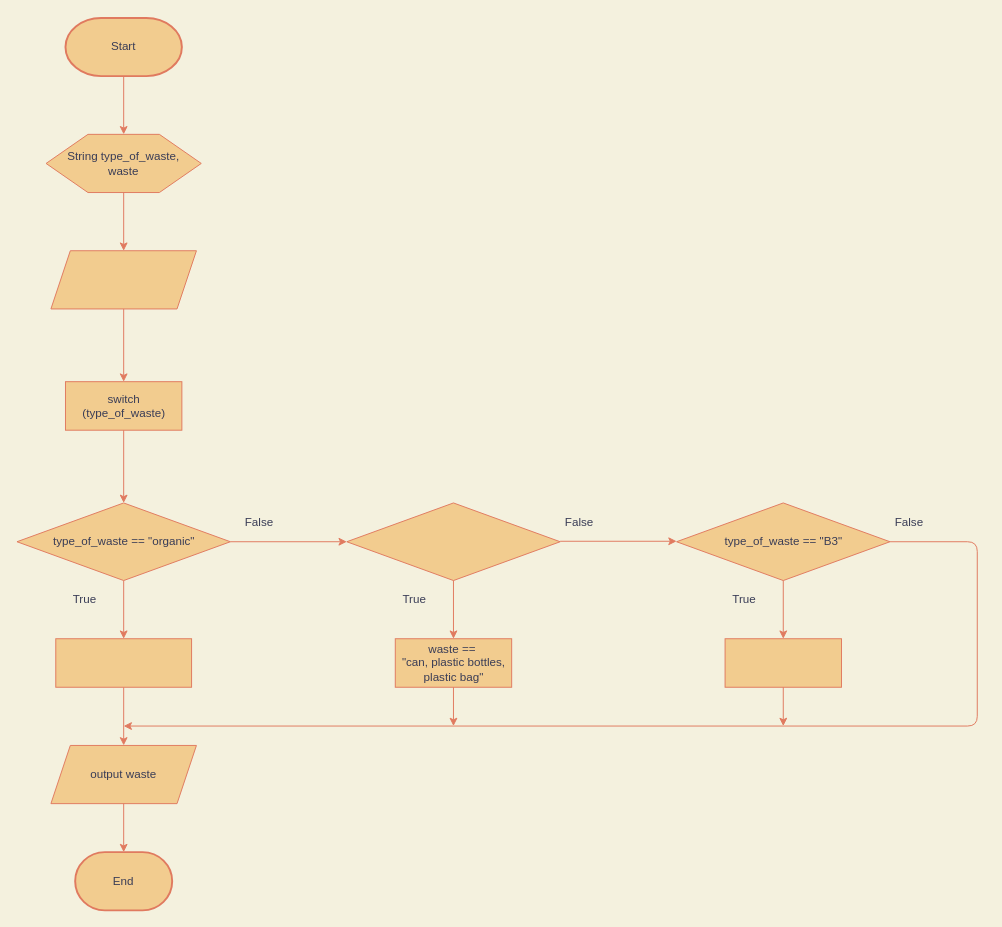
Image size: 1002x927. Some labels were removed from this diagram. Here are the shapes that lost their labels. From the top down, the centre of each, then its label:
(x=123, y=279): input type_of_waste
(x=453, y=541): type_of_waste == "anorganic"
(x=123, y=662): waste == "twigs, leaf, dried leaf"
(x=782, y=662): waste == "battery, lamp, detergen"
